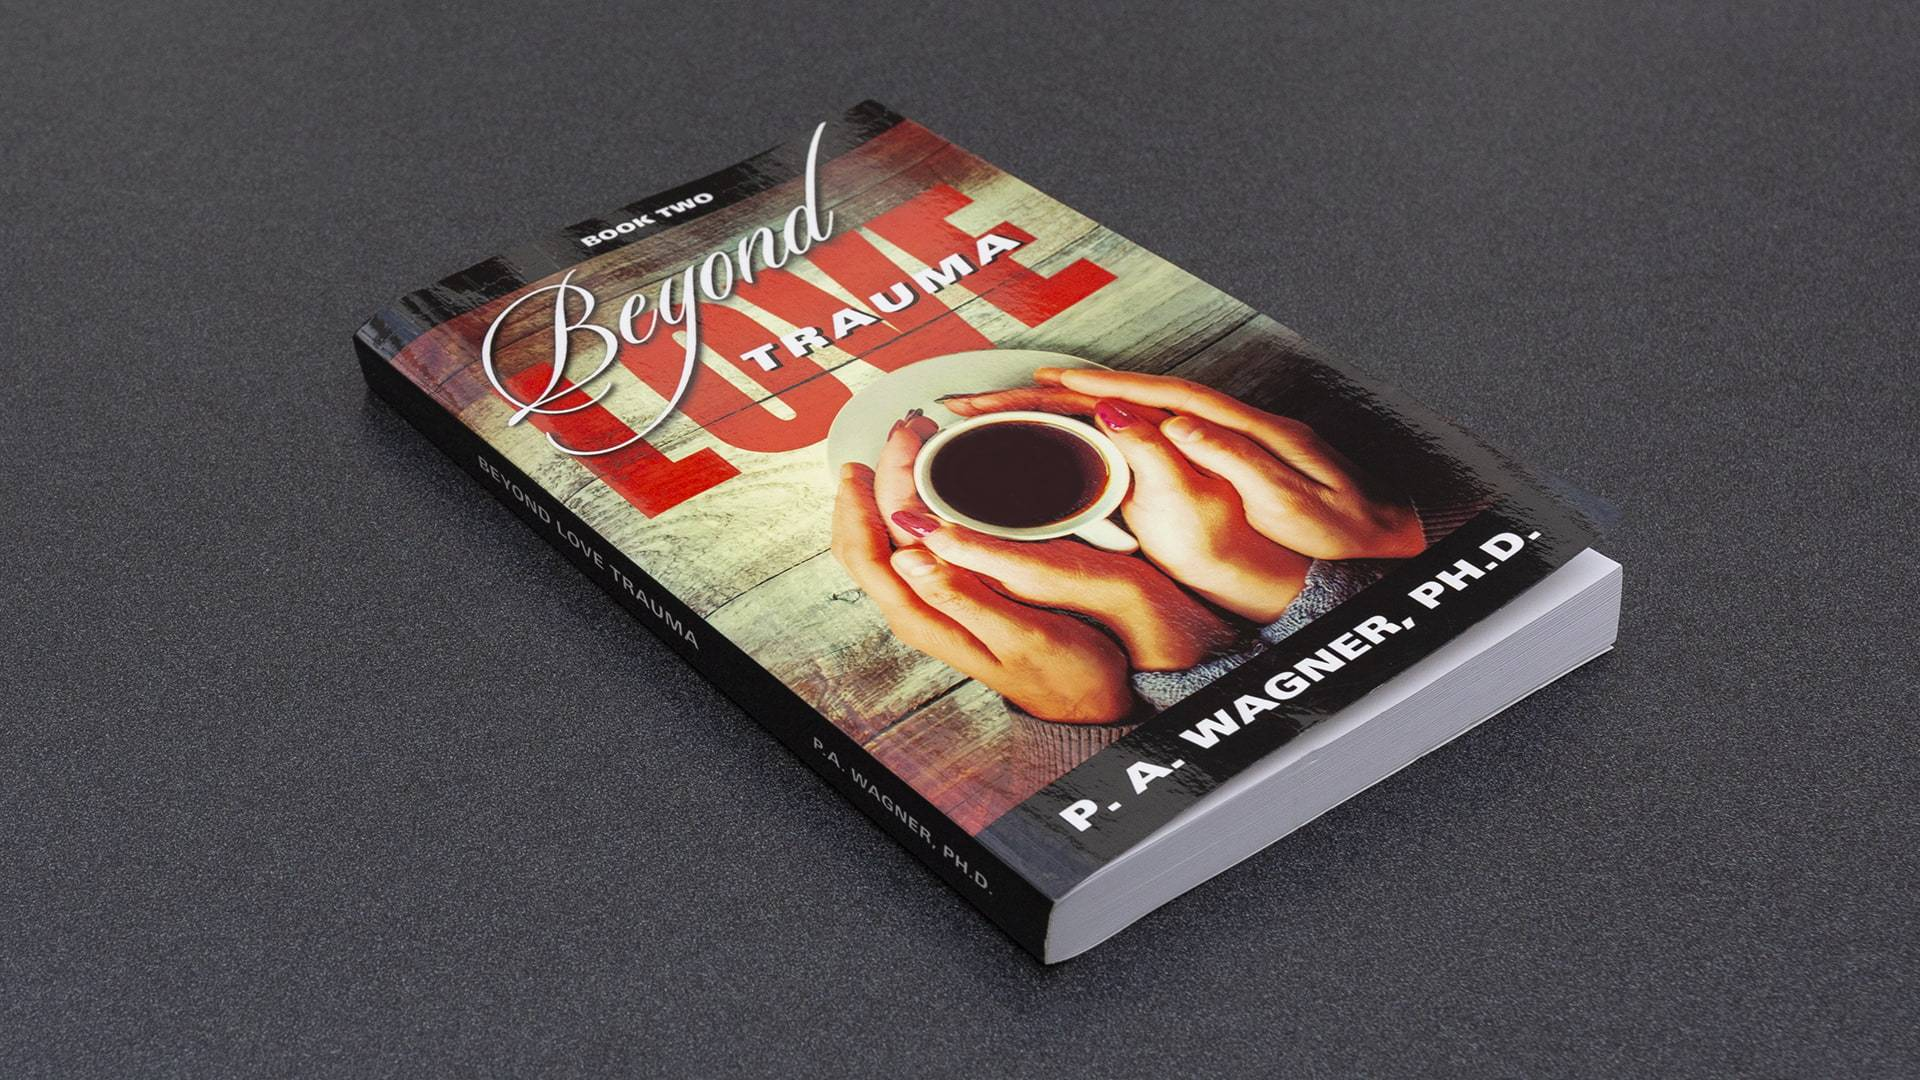book: (348, 93, 1621, 972)
